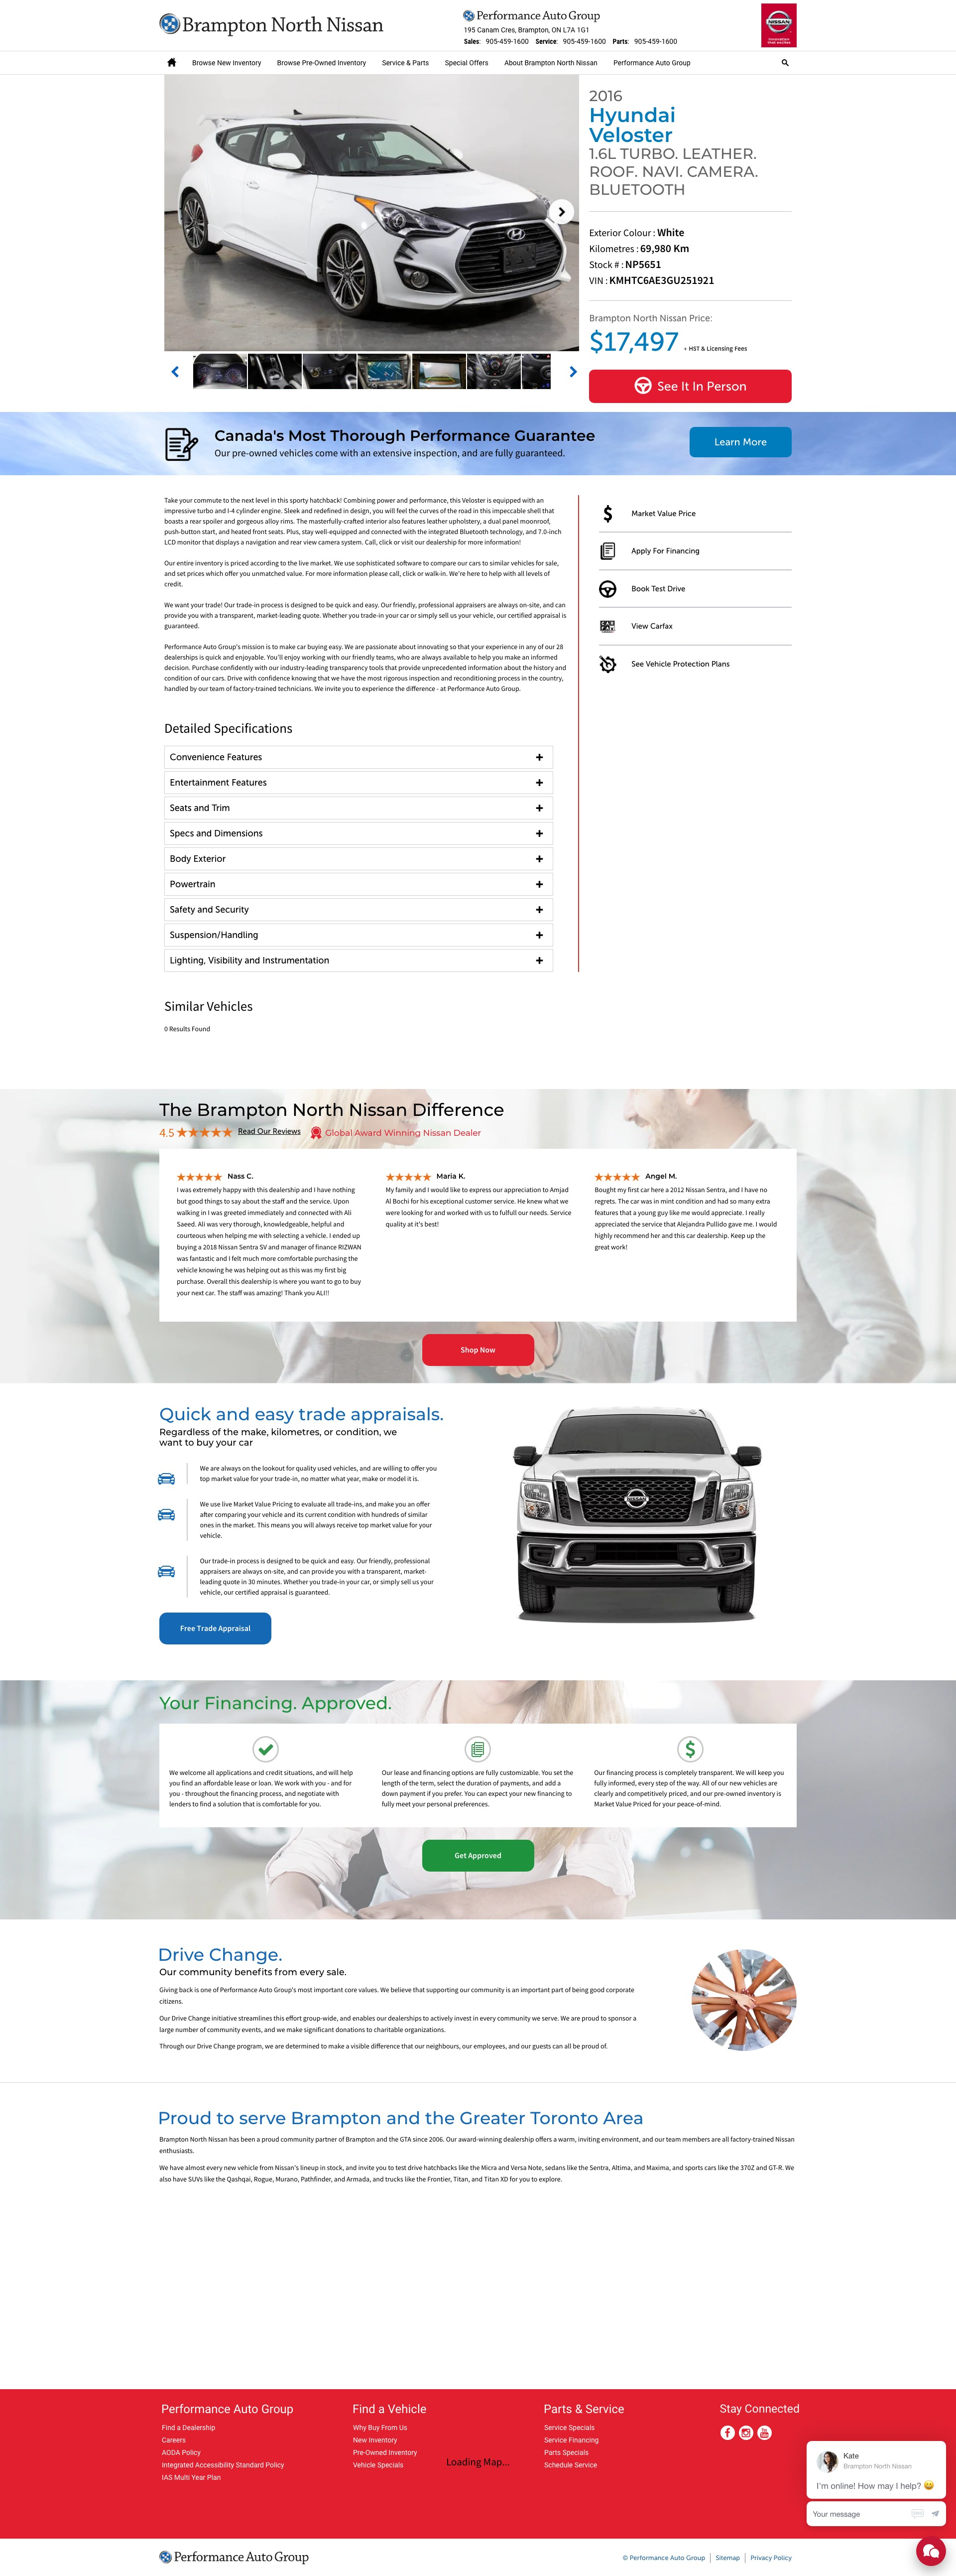car: (570, 366, 578, 378)
